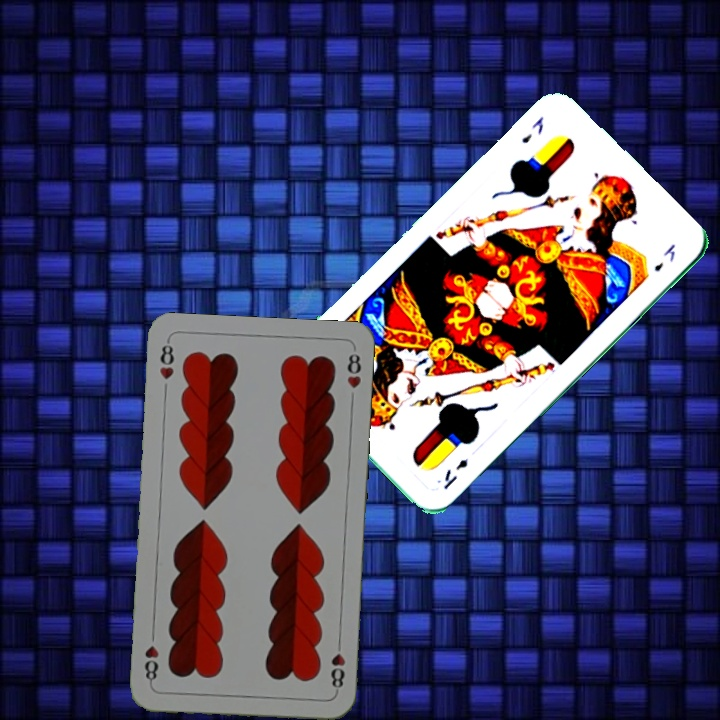EK: (439, 455, 471, 492), (517, 112, 547, 147)
H8: (327, 636, 348, 695), (155, 337, 177, 382)
